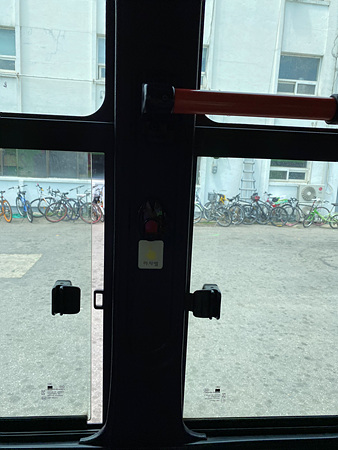bell: (139, 201, 166, 242)
